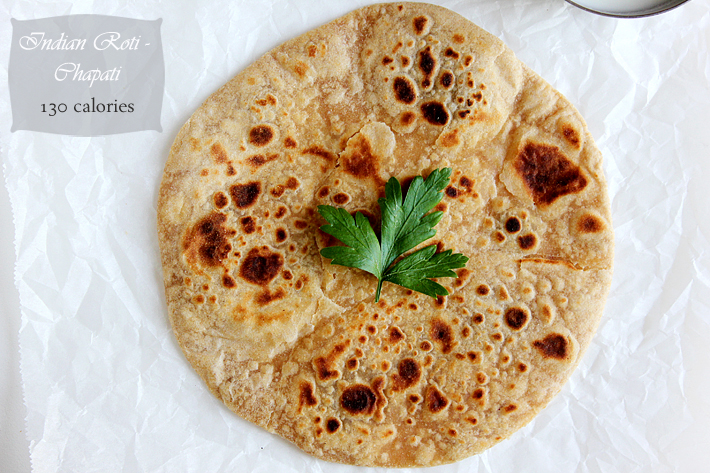Farata: (109, 1, 599, 456)
